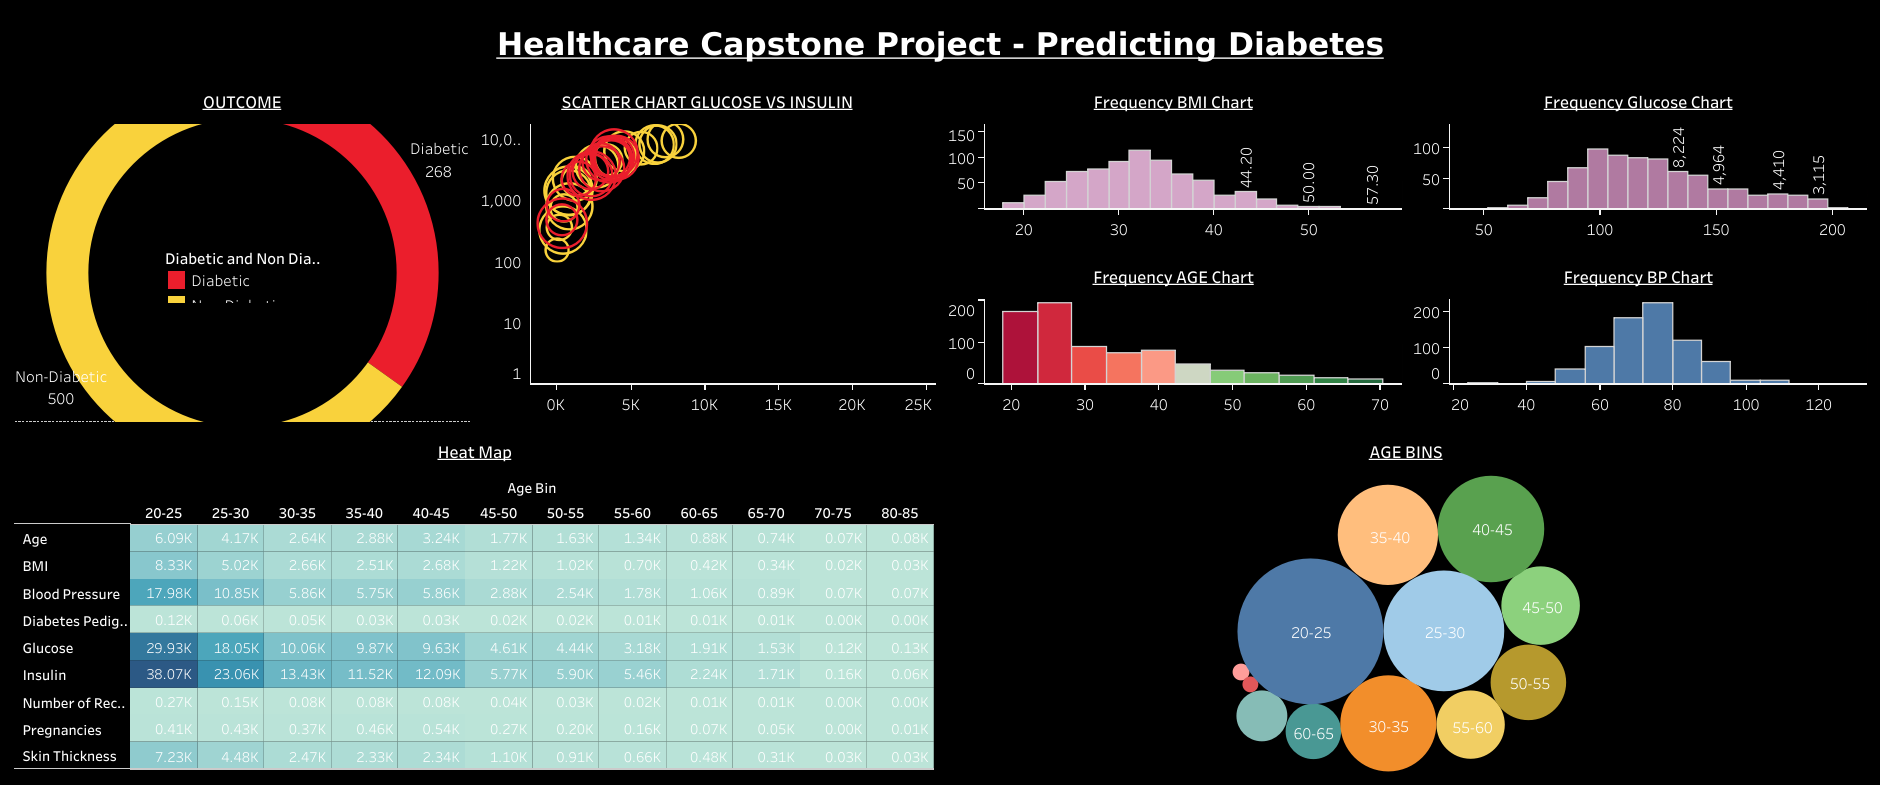

This screenshot's page, from the dashboard's own definition file:
{"tool":"tableau","page":{"name":"Dashboard 1","canvas":[1000,1000],"units":"permille","ordinal":0},"visuals":[{"type":"text","box":[4.9,9.4,990.2,84.6]},{"type":"worksheet","title":"Outcome","mark":"Pie","rows":["Calculation_2827416157958656000","Calculation_2827416157958656000"],"box":[4.9,94,247.5,448.3]},{"type":"worksheet","title":"Scatter Chart","mark":"Automatic","rows":["Insulin"],"cols":["Glucose"],"box":[252.5,94,247.6,448.3]},{"type":"worksheet","title":"Frequency BMI Chart","mark":"Automatic","rows":["BMI"],"cols":["BMI (bin)"],"box":[500,94,247.6,224.1]},{"type":"worksheet","title":"Frequency Chart Glucose","mark":"Bar","rows":["Glucose"],"cols":["Glucose (bin)"],"box":[747.6,94,247.5,224.1]},{"type":"legend","title":"Outcome","param":"[federated.09990gf0fl4ul71g7l00i0ch8jp8].[none:Calculation_2827416157968846852:n","box":[87.3,310.2,86.1,75.2]},{"type":"worksheet","title":"Frequency AGE Chart","mark":"Automatic","rows":["Age"],"cols":["Age (bin)"],"box":[500,318.1,247.6,224.2]},{"type":"worksheet","title":"Frequency BP Chart","mark":"Automatic","rows":["BloodPressure"],"cols":["Blood Pressure (bin)"],"box":[747.6,318.1,247.5,224.2]},{"type":"worksheet","title":"Heatmap","mark":"Square","cols":["Calculation_2827416157979136005"],"box":[4.9,542.3,495.1,448.3]},{"type":"worksheet","title":"Age Bins","mark":"Circle","box":[500,542.3,495.1,448.3]}]}

Visuals, with their boxes on the dashboard's canvas, which has no fixed pixel size, in thousandths of its width and height (x1, y1, x2, y2). These are canvas units, not pixel positions in the 1880x785 screenshot, which may show the page scaled, cropped or inside an application window:
text: [left=5, top=9, right=995, bottom=94]
"Outcome" worksheet (Pie marks): [left=5, top=94, right=252, bottom=542]
"Scatter Chart" worksheet: [left=252, top=94, right=500, bottom=542]
"Frequency BMI Chart" worksheet: [left=500, top=94, right=748, bottom=318]
"Frequency Chart Glucose" worksheet (Bar marks): [left=748, top=94, right=995, bottom=318]
"Outcome" legend: [left=87, top=310, right=173, bottom=385]
"Frequency AGE Chart" worksheet: [left=500, top=318, right=748, bottom=542]
"Frequency BP Chart" worksheet: [left=748, top=318, right=995, bottom=542]
"Heatmap" worksheet (Square marks): [left=5, top=542, right=500, bottom=991]
"Age Bins" worksheet (Circle marks): [left=500, top=542, right=995, bottom=991]
